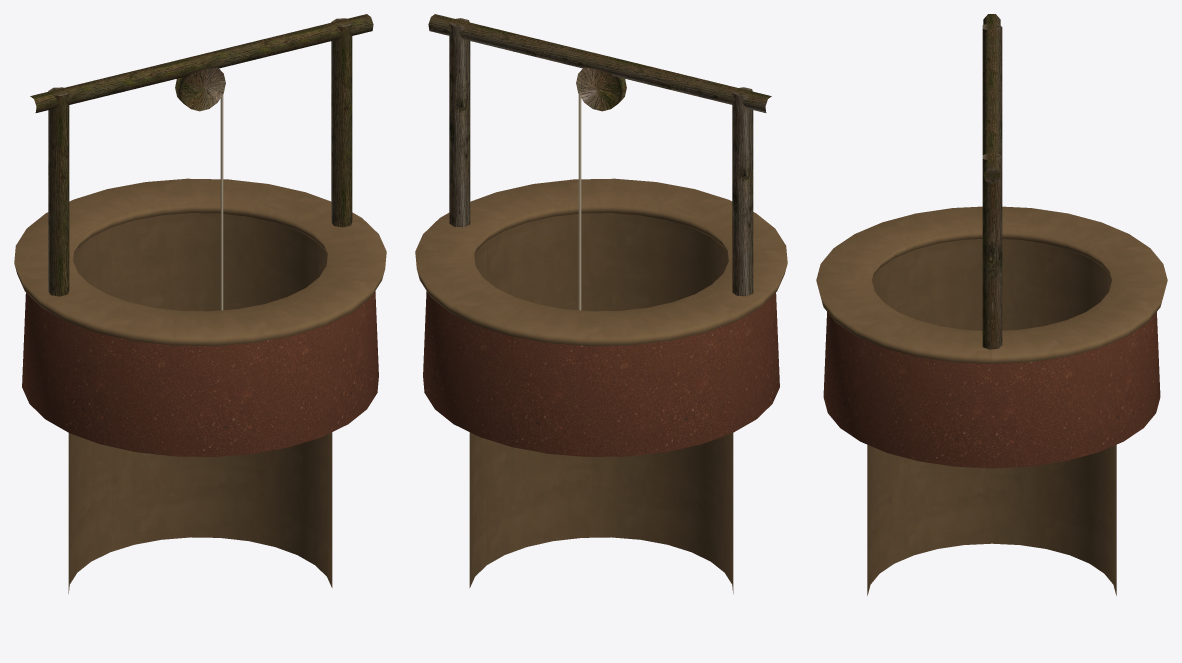
Rendered from well.glb.
The picture shows the model from 3 angles, left to right: view 1: azimuth 30°, elevation 25°; view 2: azimuth 150°, elevation 25°; view 3: azimuth 270°, elevation 25°; orthographic projection. The views are drawn at different scales.
Visible parts, largest first — view 1: well; view 2: well; view 3: well.
Part boxes in pixels (x1=…): well: x1=14, y1=14, x2=386, y2=593; well: x1=415, y1=14, x2=787, y2=593; well: x1=816, y1=14, x2=1167, y2=595.
Bounding box in the file's own units: 2.5 × 3.8 × 2.4.
Materials: 5 (3 with a texture image).
